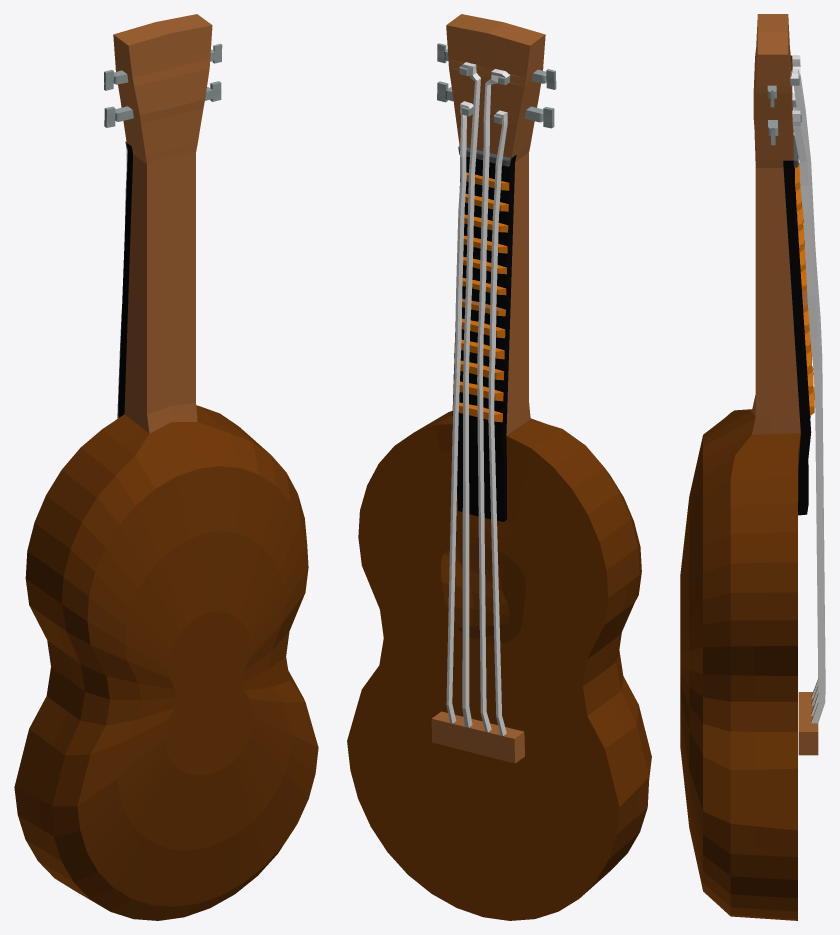
The model's file is Ukulele.fbx.
3 views of the same model, side by side, from view 1: azimuth 30°, elevation 25°; view 2: azimuth 150°, elevation 25°; view 3: azimuth 270°, elevation 25° (orthographic).
Visible parts, largest first — view 1: Ukulele; view 2: Ukulele; view 3: Ukulele.
Part boxes in pixels (box(x1,y1,x2,y2)): Ukulele: box(14, 14, 318, 920); Ukulele: box(347, 14, 651, 920); Ukulele: box(680, 14, 825, 920).
Bounding box in the file's own units: 186 × 573 × 86.4.
